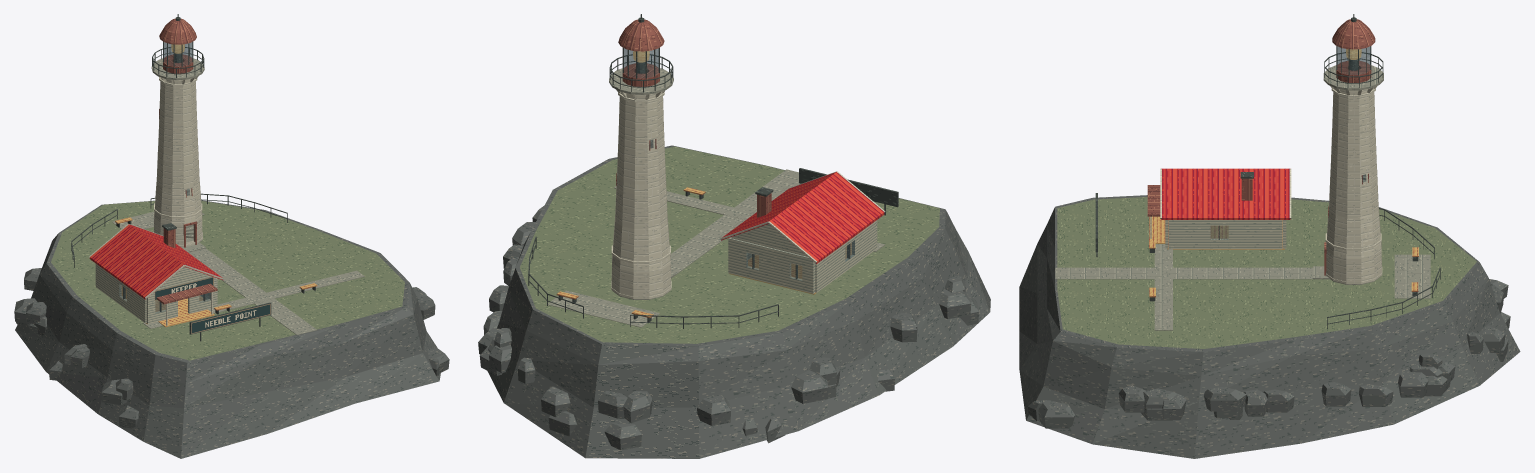
Rendered from needle-point-historic.glb.
The picture shows the model from 3 angles, left to right: view 1: azimuth 30°, elevation 25°; view 2: azimuth 150°, elevation 25°; view 3: azimuth 270°, elevation 25°; orthographic projection. The views are drawn at different scales.
Parts seen in each view (by area): view 1: optional_headland, keepers_cottage, light_tower, lantern_room, Path from town, lot, Annex crosswalk, sign_name, sign_keeper; view 2: optional_headland, keepers_cottage, light_tower, lot, lantern_room, Path from town, Annex crosswalk; view 3: optional_headland, keepers_cottage, light_tower, Path from town, lantern_room, lot, Annex crosswalk.
Boxes of the visible parts, left/top/right/bottom form: optional_headland: left=14, top=200, right=449, bottom=458; keepers_cottage: left=89, top=223, right=223, bottom=327; light_tower: left=153, top=76, right=205, bottom=252; lantern_room: left=151, top=14, right=204, bottom=80; Path from town: left=188, top=248, right=316, bottom=335; lot: left=71, top=193, right=317, bottom=341; Annex crosswalk: left=143, top=270, right=364, bottom=328; sign_name: left=191, top=303, right=270, bottom=333; sign_keeper: left=154, top=277, right=213, bottom=300; optional_headland: left=478, top=145, right=990, bottom=458; keepers_cottage: left=720, top=171, right=885, bottom=294; light_tower: left=611, top=90, right=675, bottom=299; lot: left=528, top=168, right=898, bottom=328; lantern_room: left=609, top=14, right=673, bottom=94; Path from town: left=670, top=169, right=800, bottom=278; Annex crosswalk: left=614, top=186, right=885, bottom=251; optional_headland: left=1019, top=195, right=1520, bottom=458; keepers_cottage: left=1147, top=168, right=1291, bottom=249; light_tower: left=1313, top=86, right=1382, bottom=284; Path from town: left=1055, top=267, right=1312, bottom=279; lantern_room: left=1323, top=14, right=1383, bottom=90; lot: left=1095, top=193, right=1440, bottom=328; Annex crosswalk: left=1154, top=244, right=1172, bottom=330.
Size of the model in its own units: 36.52 by 31.59 by 40.62.
Materials: 12 (12 with a texture image).
